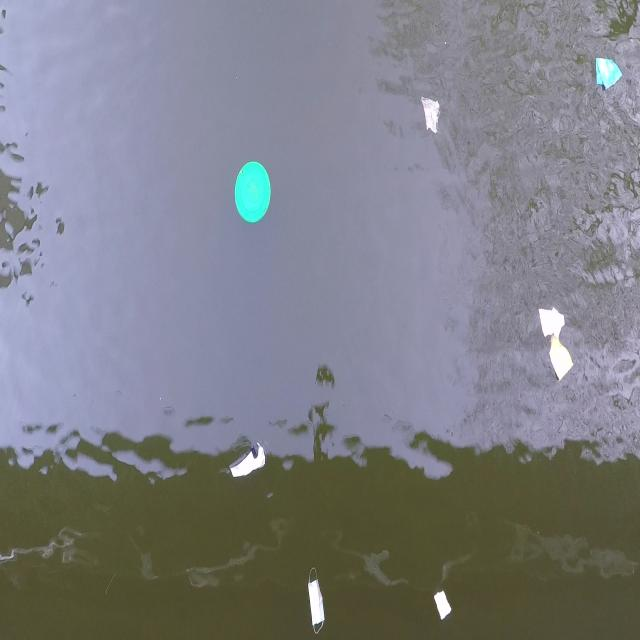Autre plastique: (230, 157, 274, 230), (589, 50, 623, 98)
Non plastique: (303, 562, 329, 638)
